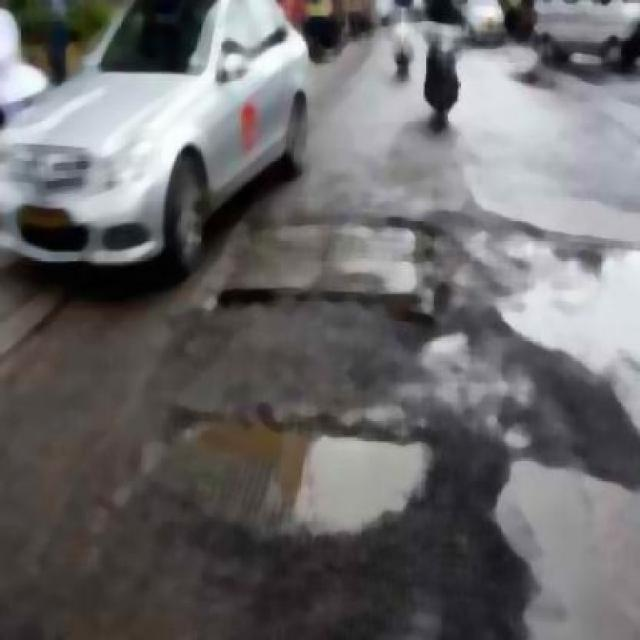Pothole: (181, 392, 434, 551), (498, 430, 639, 639)
